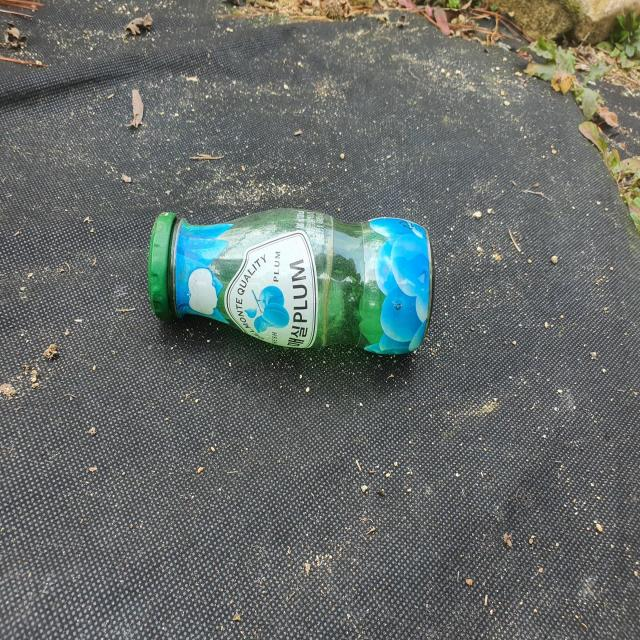glass: (148, 208, 434, 355)
